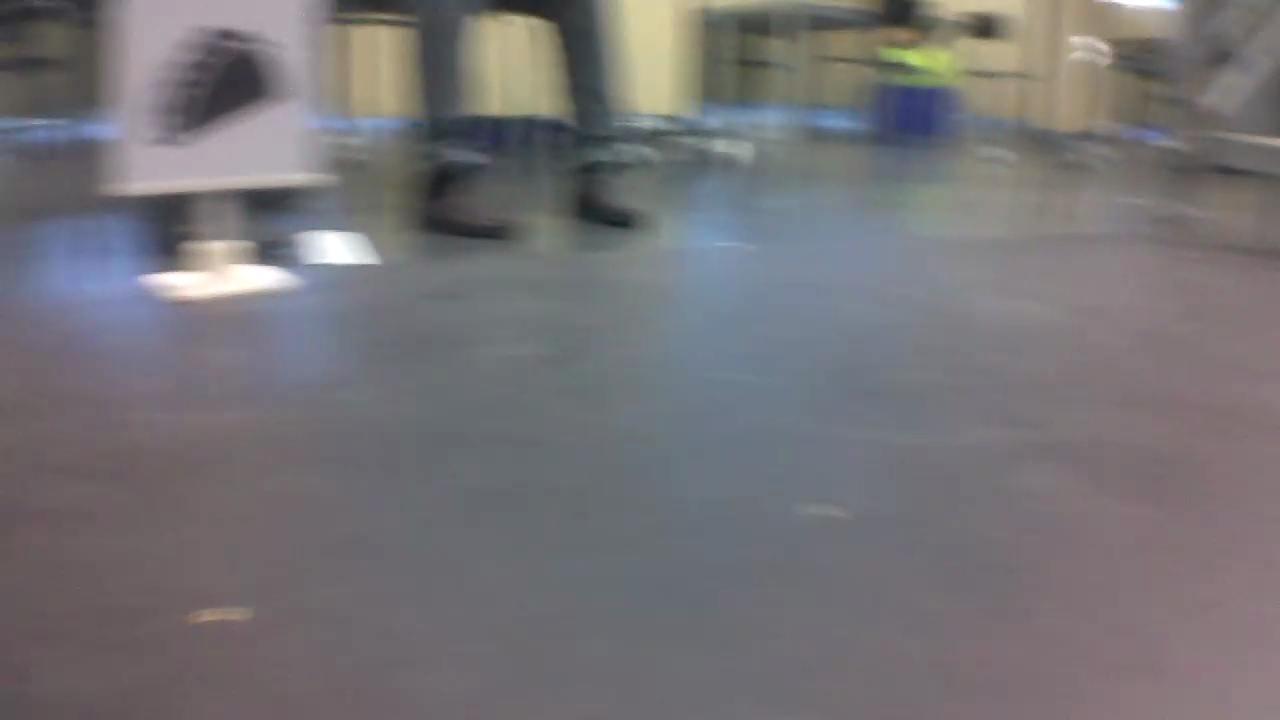taco: (137, 19, 298, 158)
